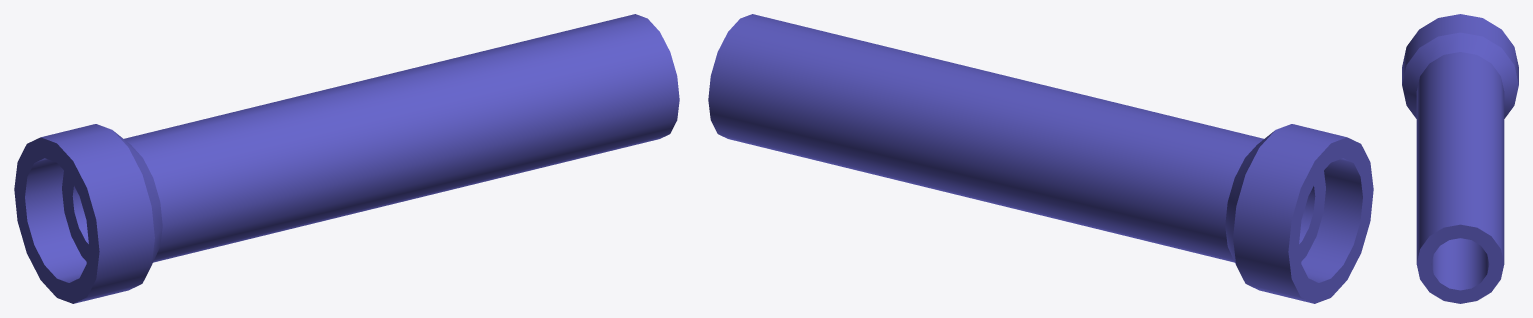
The model's file is BlueMetalMechMediumStraightPipeConnector1.fbx.
3 renders of one model, left to right at view 1: azimuth 30°, elevation 25°; view 2: azimuth 150°, elevation 25°; view 3: azimuth 270°, elevation 25°, orthographic. The views are drawn at different scales.
Parts seen in each view (by area): view 1: BlueMetalMechMediumStraightPipeConnector1; view 2: BlueMetalMechMediumStraightPipeConnector1; view 3: BlueMetalMechMediumStraightPipeConnector1.
Boxes of the visible parts, bbox=[...] form: BlueMetalMechMediumStraightPipeConnector1: bbox=[14, 14, 679, 303]; BlueMetalMechMediumStraightPipeConnector1: bbox=[708, 14, 1373, 303]; BlueMetalMechMediumStraightPipeConnector1: bbox=[1402, 14, 1518, 303].
Bounding box in the file's own units: 320 × 80 × 80.
